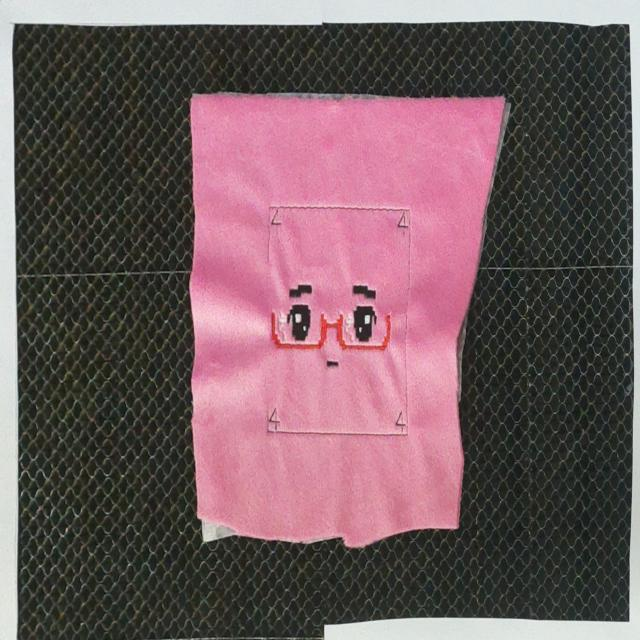4 -: (396, 211, 411, 240), (391, 409, 407, 436), (269, 401, 282, 432), (272, 209, 282, 236)
